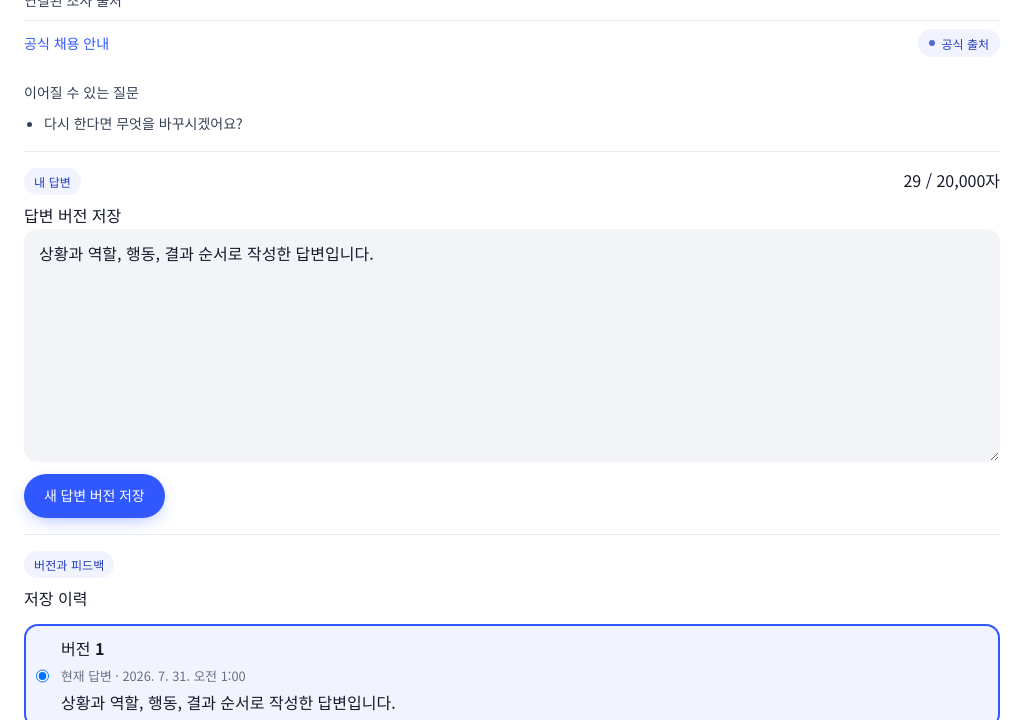
Test: P8 interview answer conflict and feedback UI › cancels a conflict without another mutation and restores the server answer
(page scrolled)
Replace the text in the text box with "저장하려던 로컬 답변" at [512, 346], box [24,229,1000,462]
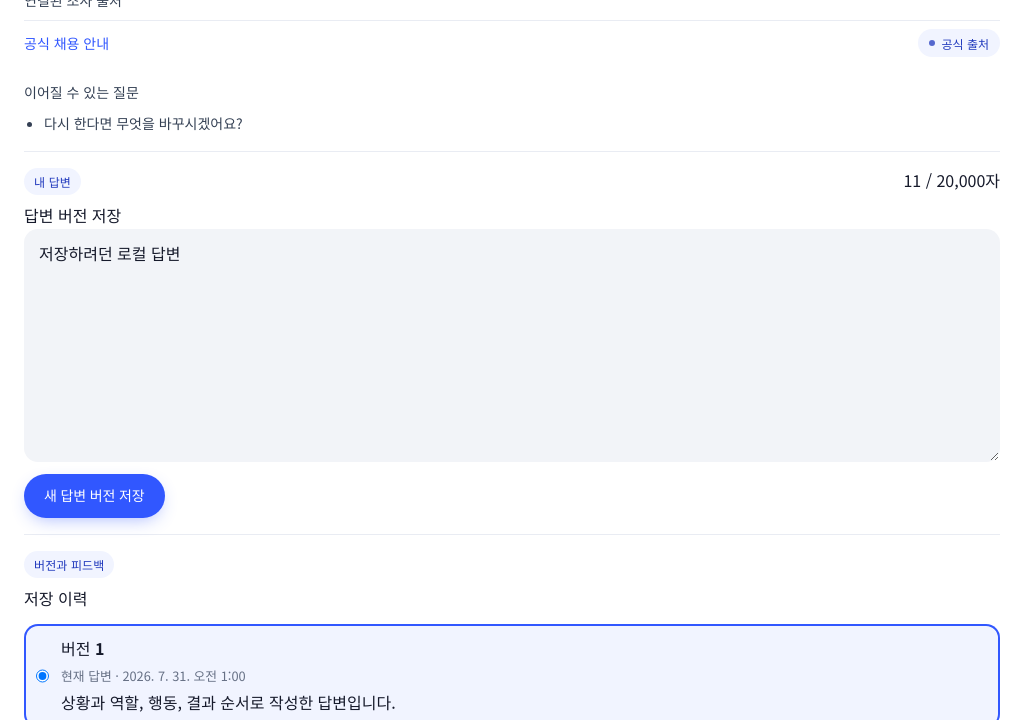
Click the button "새 답변 버전 저장".
click(94, 496)  # box [24,474,164,518]
(page scrolled)
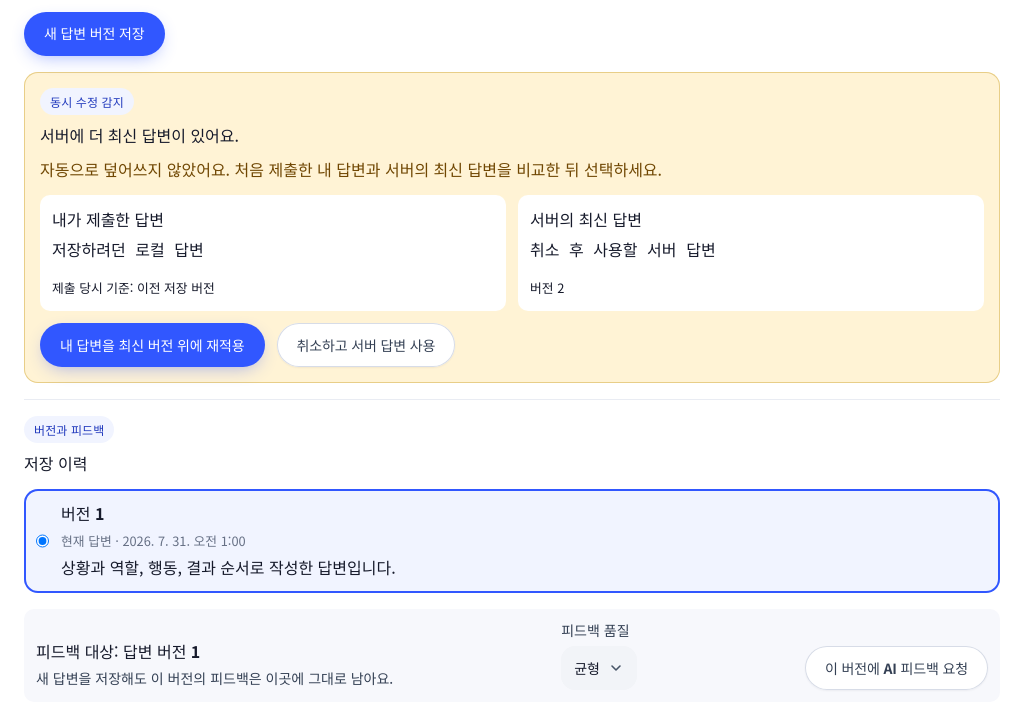
Click the button with class "button--secondary" showing "취소하고 서버 답변 사용".
click(366, 345)  # box [276,323,455,367]
(page scrolled)
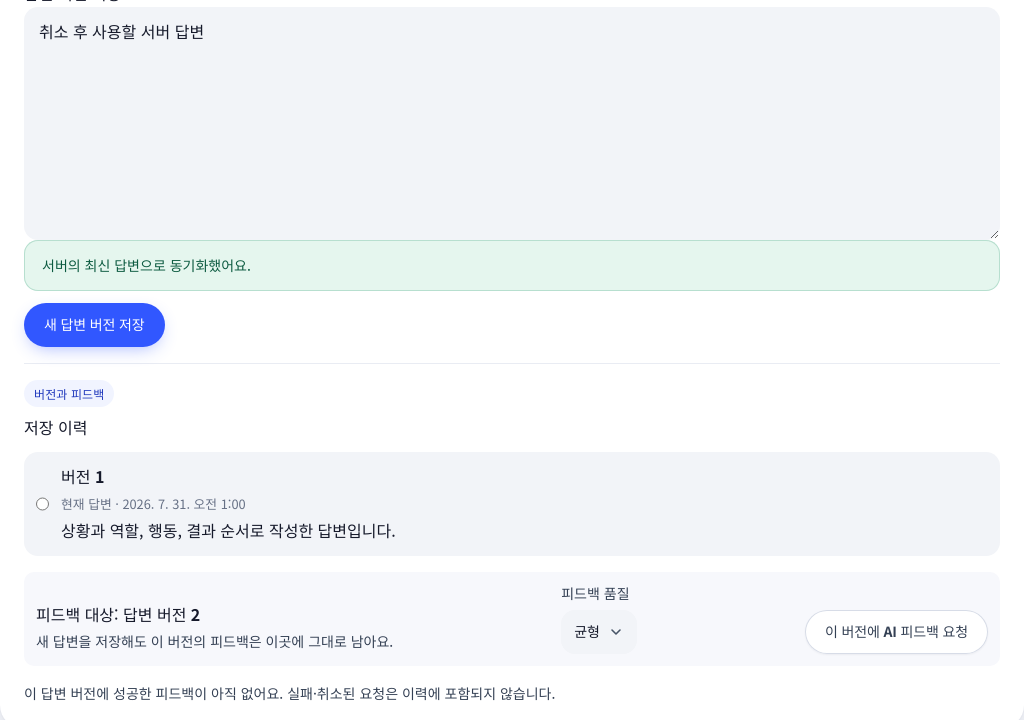
Result: the text box holds "취소 후 사용할 서버 답변" at [24,7,1000,240]
